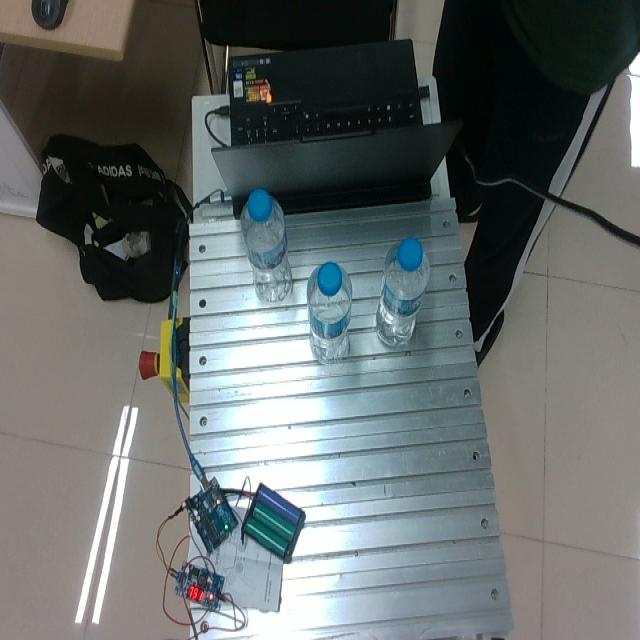lavie: (239, 188, 292, 304), (375, 236, 429, 348), (306, 261, 352, 363)
